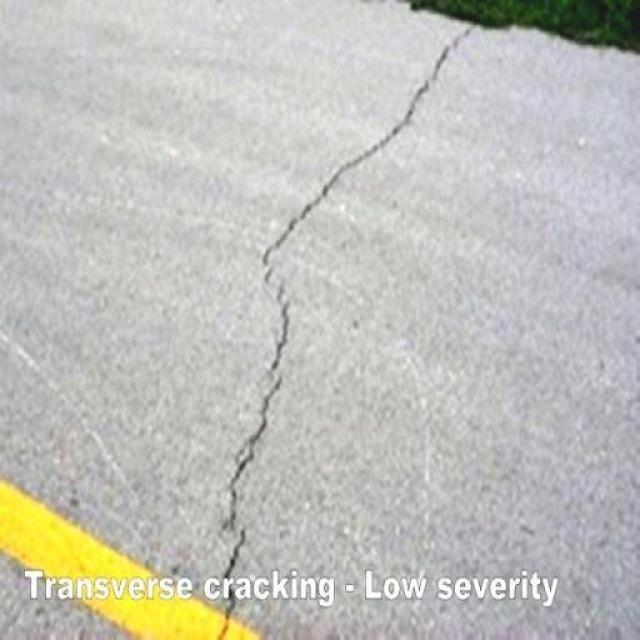moderate crack: (205, 520, 252, 633), (83, 422, 129, 488), (2, 320, 45, 376)
severe crack: (210, 24, 471, 632), (0, 259, 153, 495), (439, 18, 638, 155), (380, 28, 465, 146), (265, 186, 336, 263), (253, 284, 292, 404), (226, 418, 267, 502), (444, 20, 477, 54), (260, 236, 284, 273), (218, 507, 238, 534)
